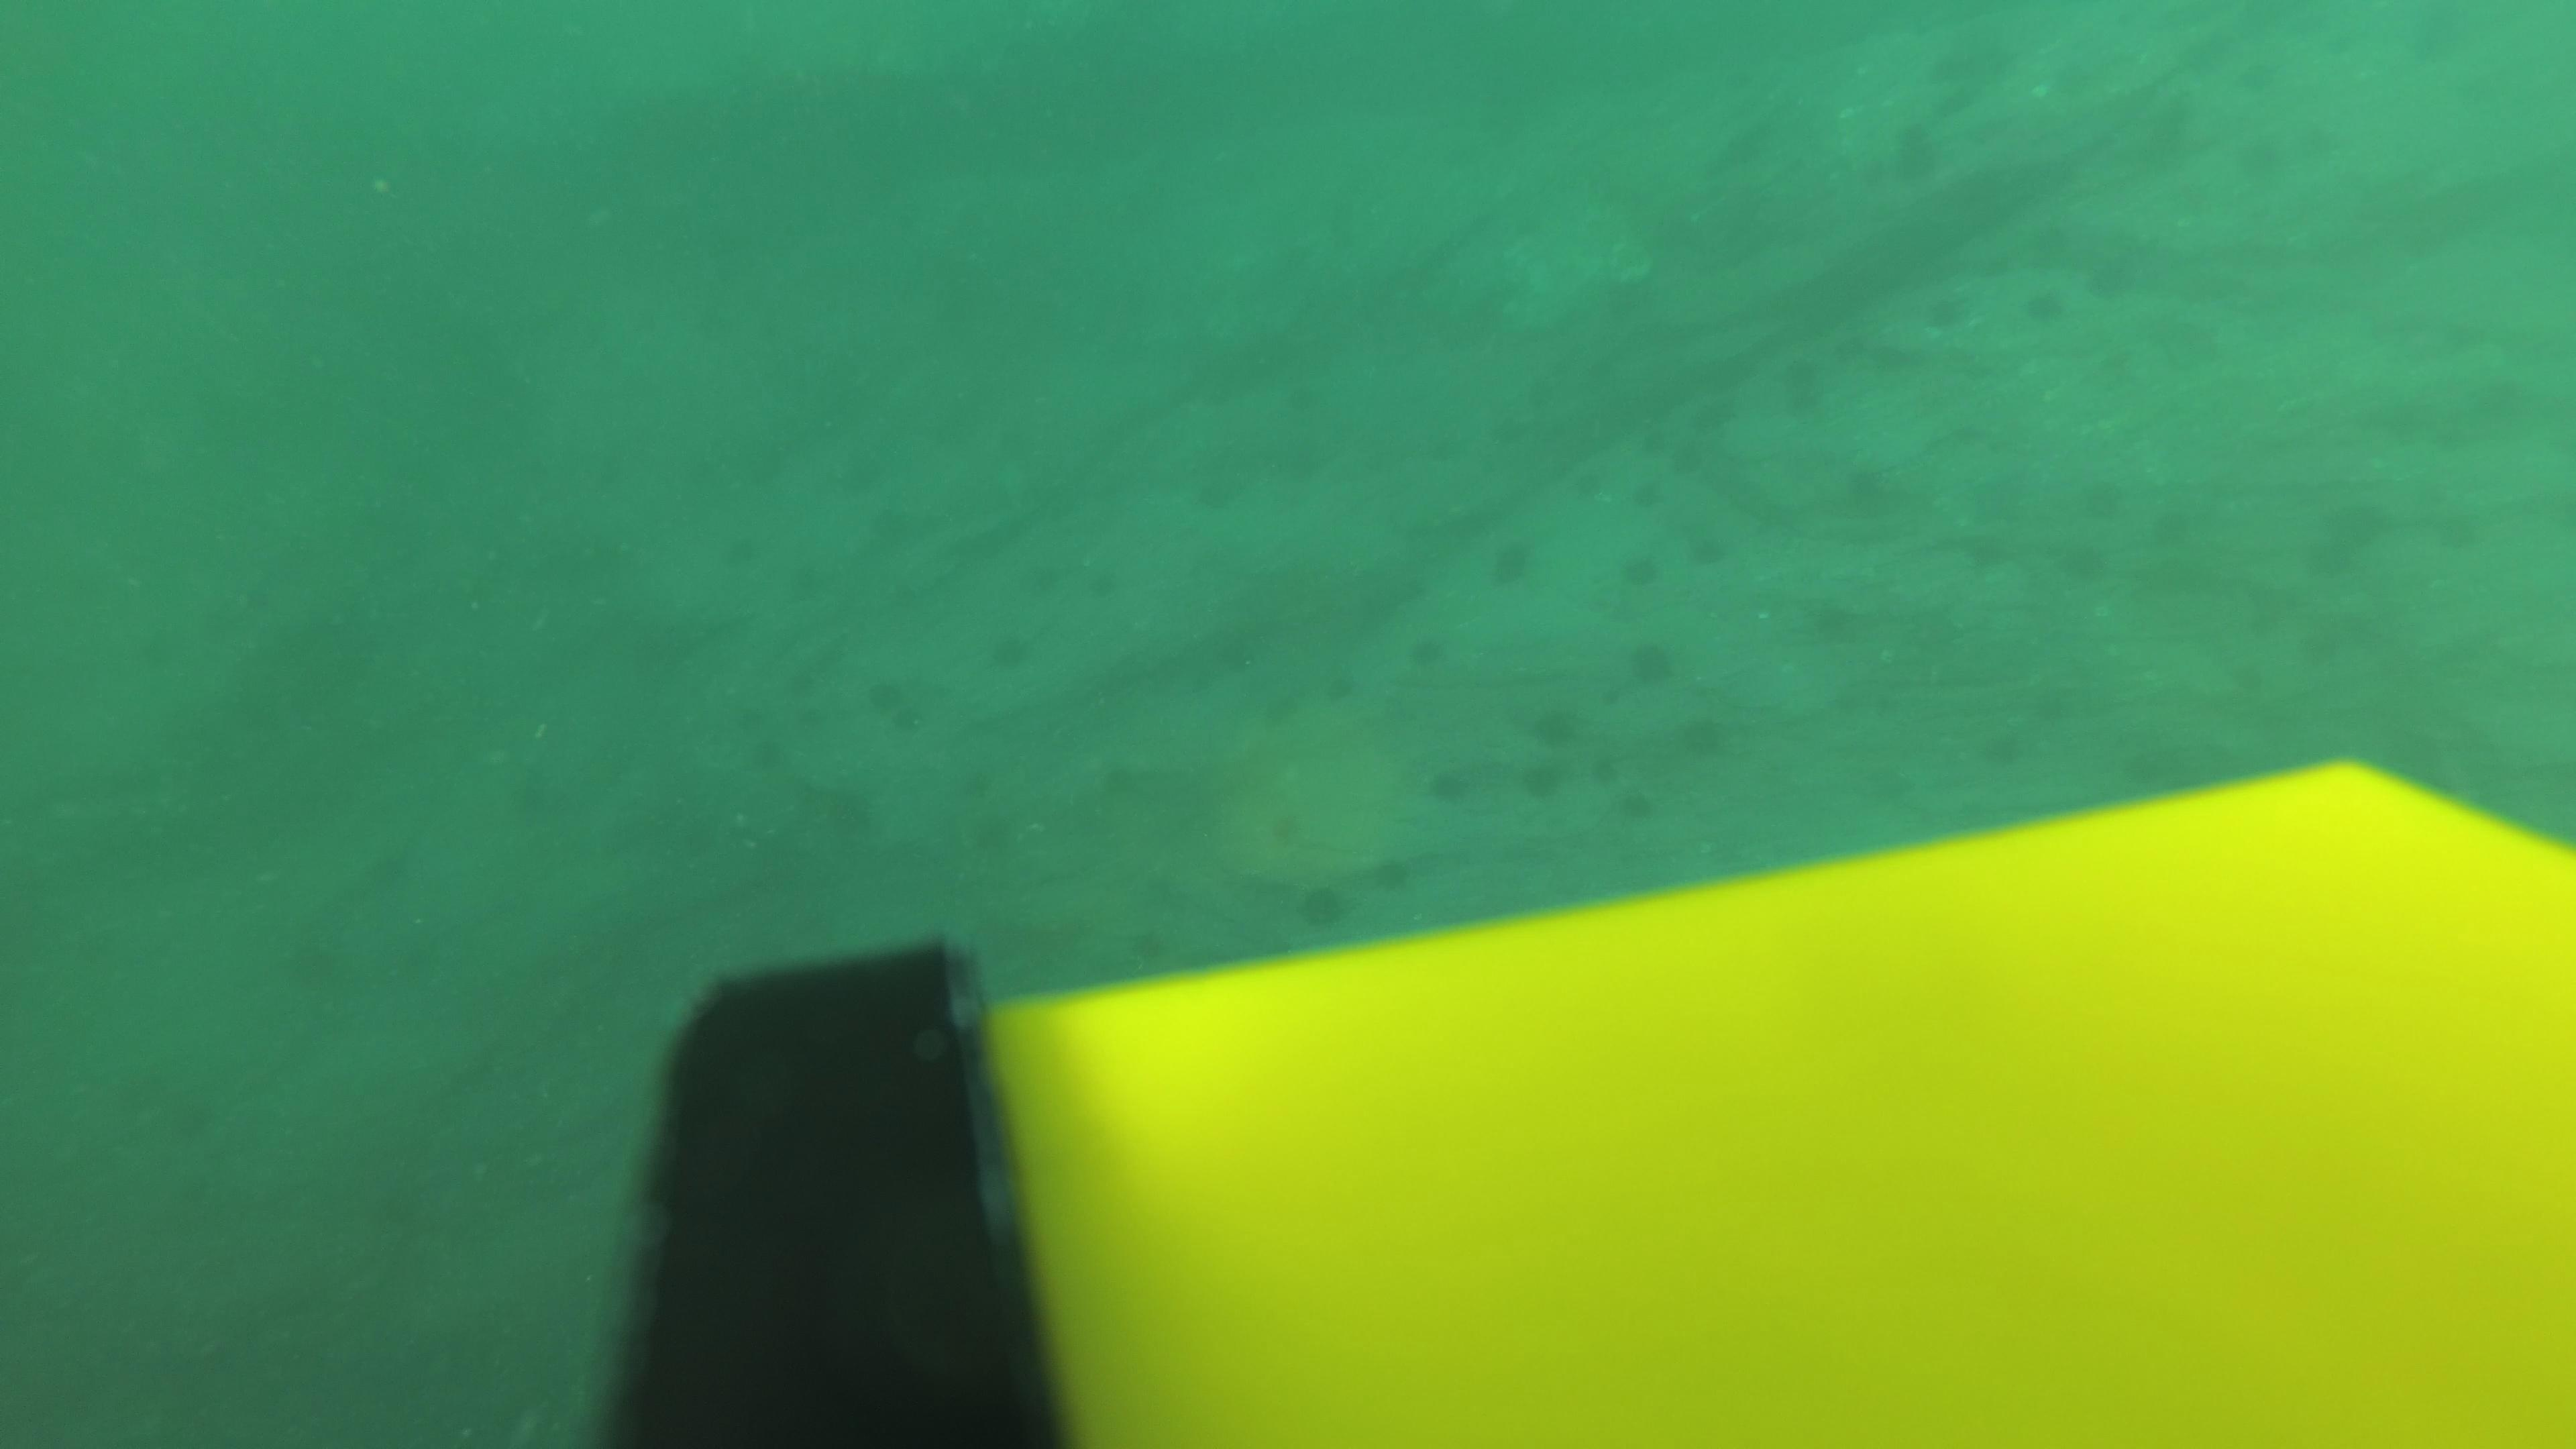echinus: (1835, 456, 1904, 524), (1884, 117, 1948, 188), (1292, 874, 1357, 934), (1801, 593, 1867, 651), (1484, 531, 1539, 591), (1920, 283, 1976, 336), (1626, 635, 1679, 690), (2020, 683, 2081, 731), (2061, 540, 2121, 587), (2065, 462, 2125, 510), (2151, 506, 2212, 554), (2240, 591, 2300, 639), (1422, 759, 1477, 810), (1974, 729, 2033, 777), (1950, 533, 2008, 580), (2289, 616, 2348, 663), (2226, 663, 2284, 711), (2295, 543, 2353, 591), (2314, 504, 2373, 552), (1527, 701, 1582, 750), (2436, 506, 2495, 552), (2088, 260, 2141, 310), (2167, 28, 2220, 78), (2226, 50, 2279, 99), (2229, 127, 2282, 177), (2019, 281, 2070, 331), (2013, 225, 2065, 274), (1920, 87, 1971, 136), (1928, 44, 1980, 94), (2038, 57, 2089, 106), (2141, 117, 2192, 166), (1507, 754, 1559, 801), (1315, 669, 1357, 708), (1407, 633, 1449, 672), (1619, 556, 1661, 594), (954, 766, 996, 805), (1023, 561, 1065, 600), (1587, 754, 1629, 791), (1617, 782, 1660, 819), (1679, 715, 1721, 752), (1371, 860, 1414, 897), (1125, 931, 1168, 968), (1143, 872, 1185, 909), (1260, 810, 1302, 847), (1260, 690, 1302, 727), (1684, 534, 1727, 571), (1219, 637, 1261, 674), (1097, 761, 1139, 798), (977, 812, 1019, 849), (985, 635, 1028, 672), (1081, 564, 1123, 602), (1787, 386, 1829, 423), (1780, 347, 1822, 384), (1688, 395, 1730, 432), (1672, 435, 1714, 472), (1629, 423, 1672, 460), (1573, 467, 1615, 504), (1484, 412, 1527, 449), (1532, 338, 1575, 375), (1585, 350, 1628, 387), (1272, 377, 1315, 414), (1281, 441, 1323, 478), (1180, 474, 1223, 511), (1415, 430, 1458, 467), (1511, 373, 1552, 410), (1637, 483, 1679, 518), (786, 669, 824, 706), (867, 508, 906, 545), (892, 702, 931, 738), (869, 676, 908, 711), (801, 702, 840, 738), (755, 745, 794, 780), (740, 702, 778, 738), (791, 561, 830, 596), (718, 529, 757, 564), (832, 456, 870, 492), (879, 577, 918, 612), (745, 453, 784, 488)
